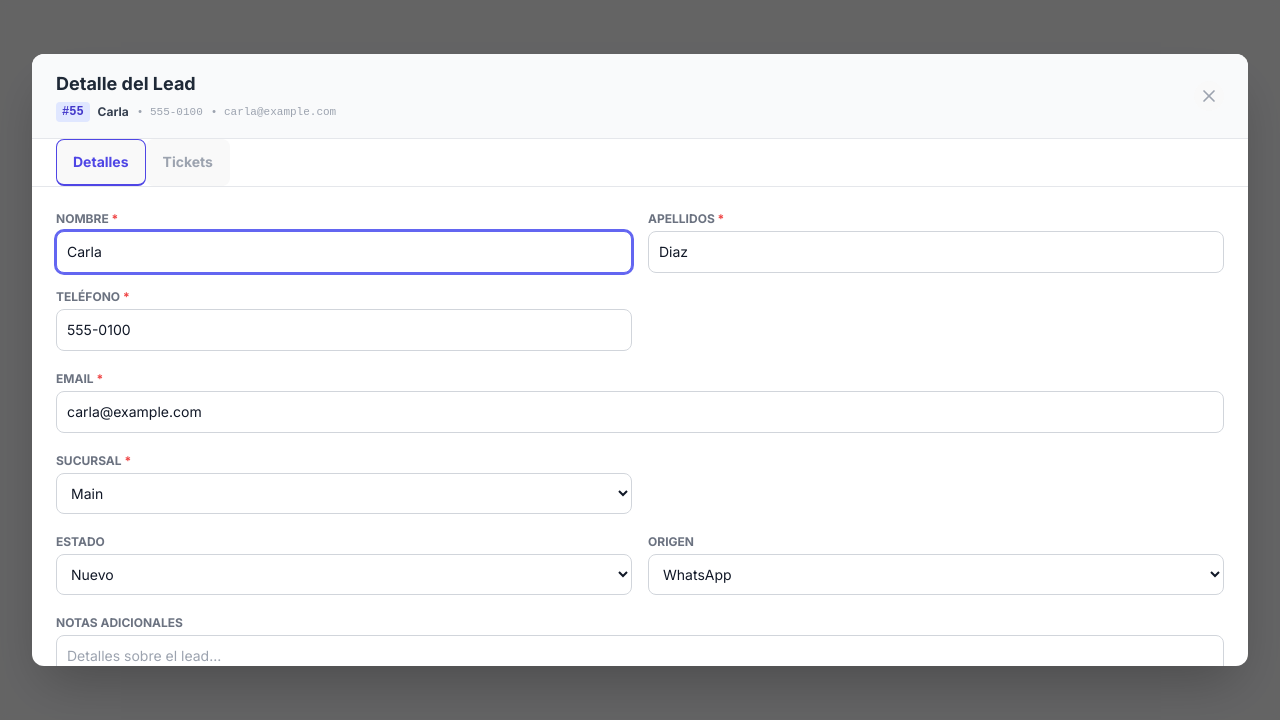
it: LeadModal — ticket load states › shows the empty state ONLY for a successful empty response
Click the button "Tickets" at (188, 162), box left=146, top=139, right=230, bottom=186
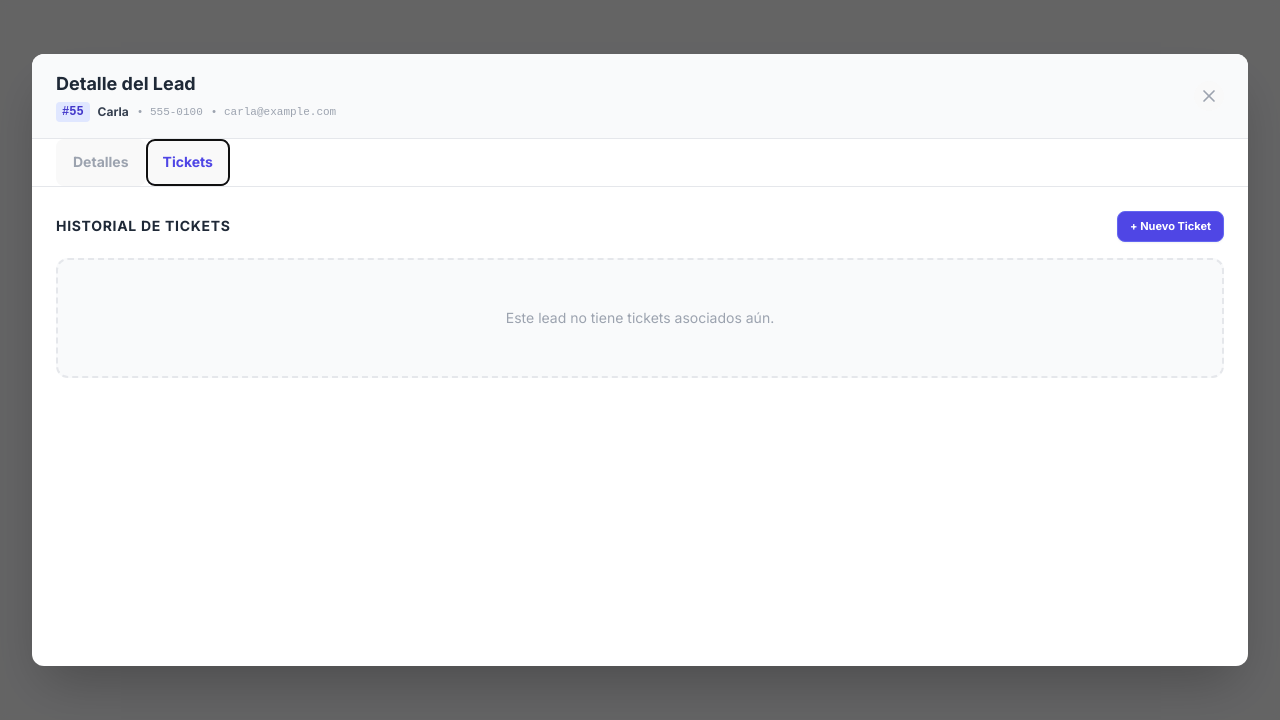
Expected: the element with test id "tickets-state-empty" is shown, left=56, top=258, right=1224, bottom=378
